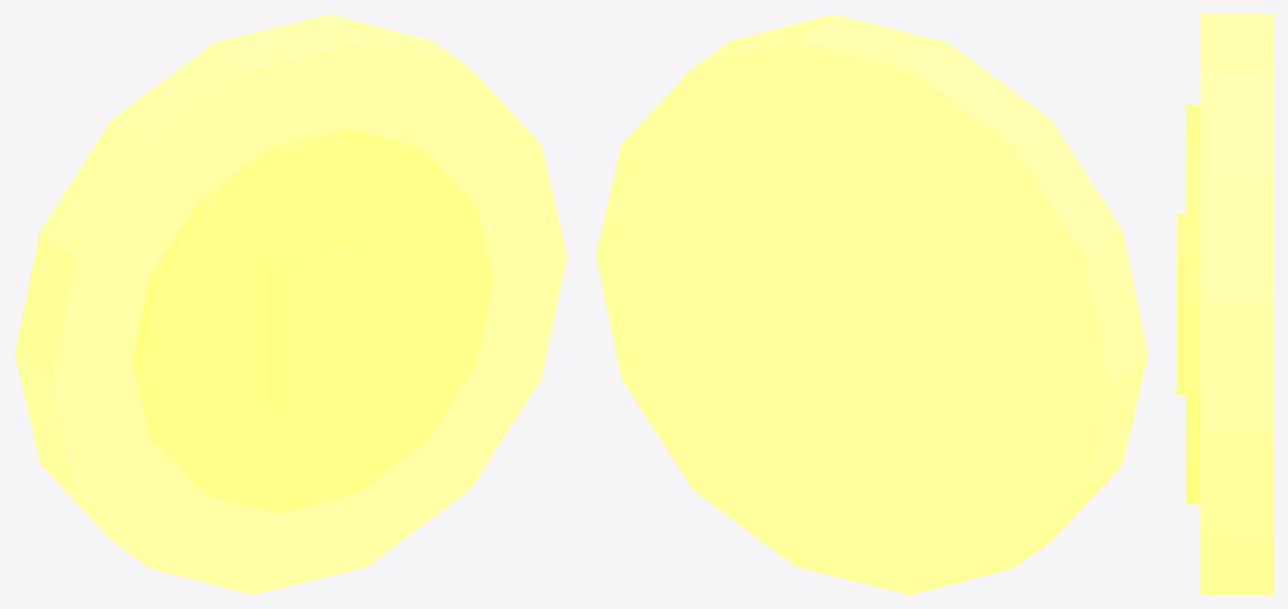
File: coin.glb
3 views of the same model, side by side, from view 1: azimuth 30°, elevation 25°; view 2: azimuth 150°, elevation 25°; view 3: azimuth 270°, elevation 25° (orthographic).
Parts seen in each view (by area): view 1: coin; view 2: coin; view 3: coin.
Boxes of the visible parts, <box> form: coin: <box>14,14,566,594</box>; coin: <box>595,14,1147,594</box>; coin: <box>1176,14,1273,594</box>.
Size of the model in its own units: 0.64 by 0.624 by 0.105.
